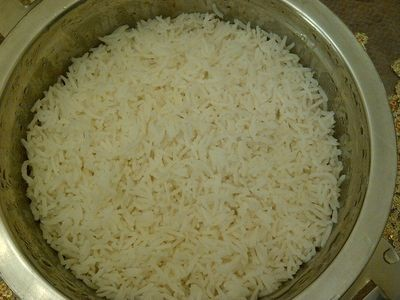plain rice: (79, 53, 315, 263)
